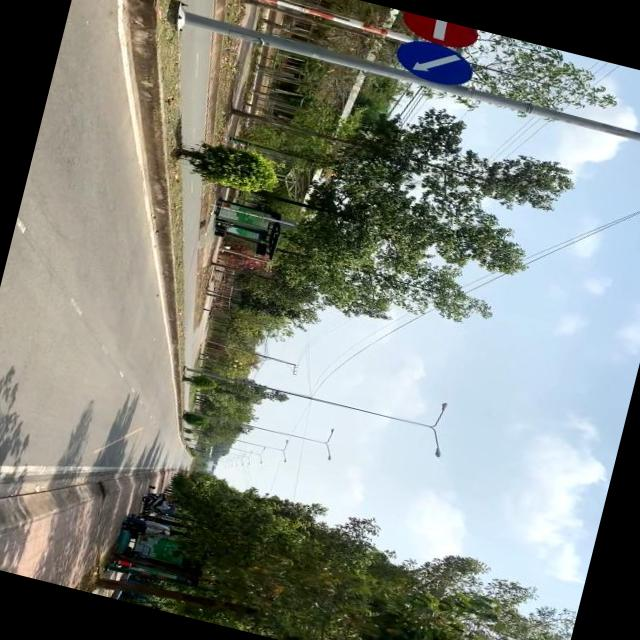R-302a: (392, 36, 480, 94)
